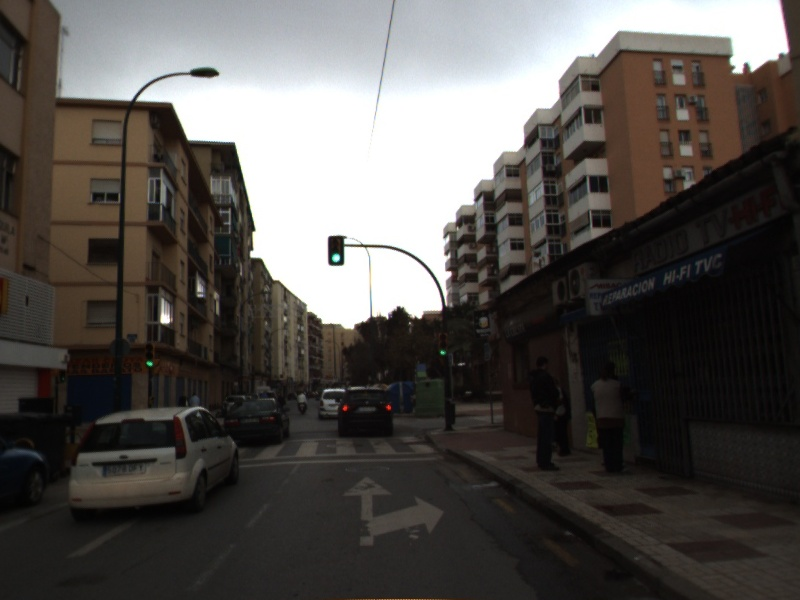STRAIGHT_RIGHT: (340, 475, 446, 548)
